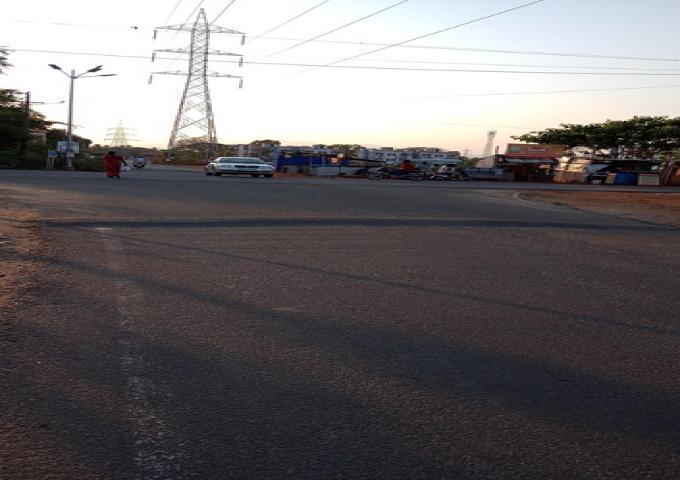speedbreaker: (22, 211, 678, 238)
